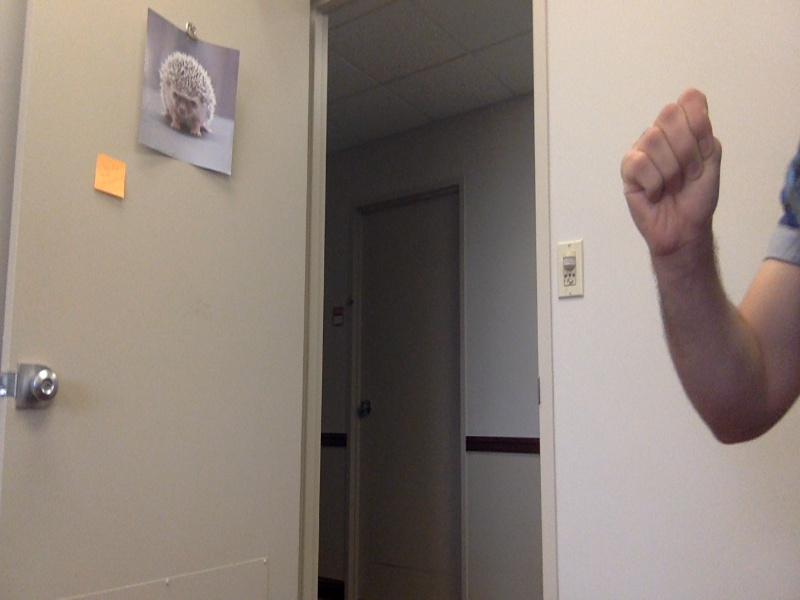0-hand: (616, 86, 721, 259)
